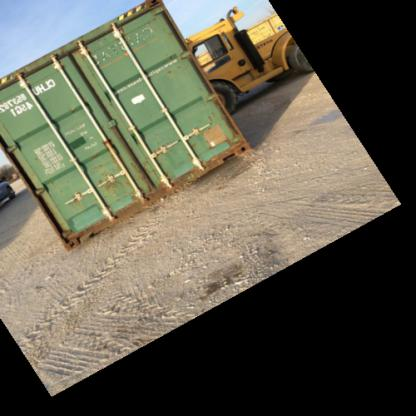Damage: (200, 116, 235, 155), (97, 164, 128, 197), (161, 52, 189, 84), (90, 36, 122, 64), (125, 20, 158, 46), (48, 171, 72, 194)
